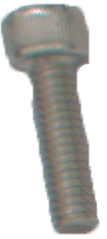M6-20mm: (0, 3, 101, 236)
